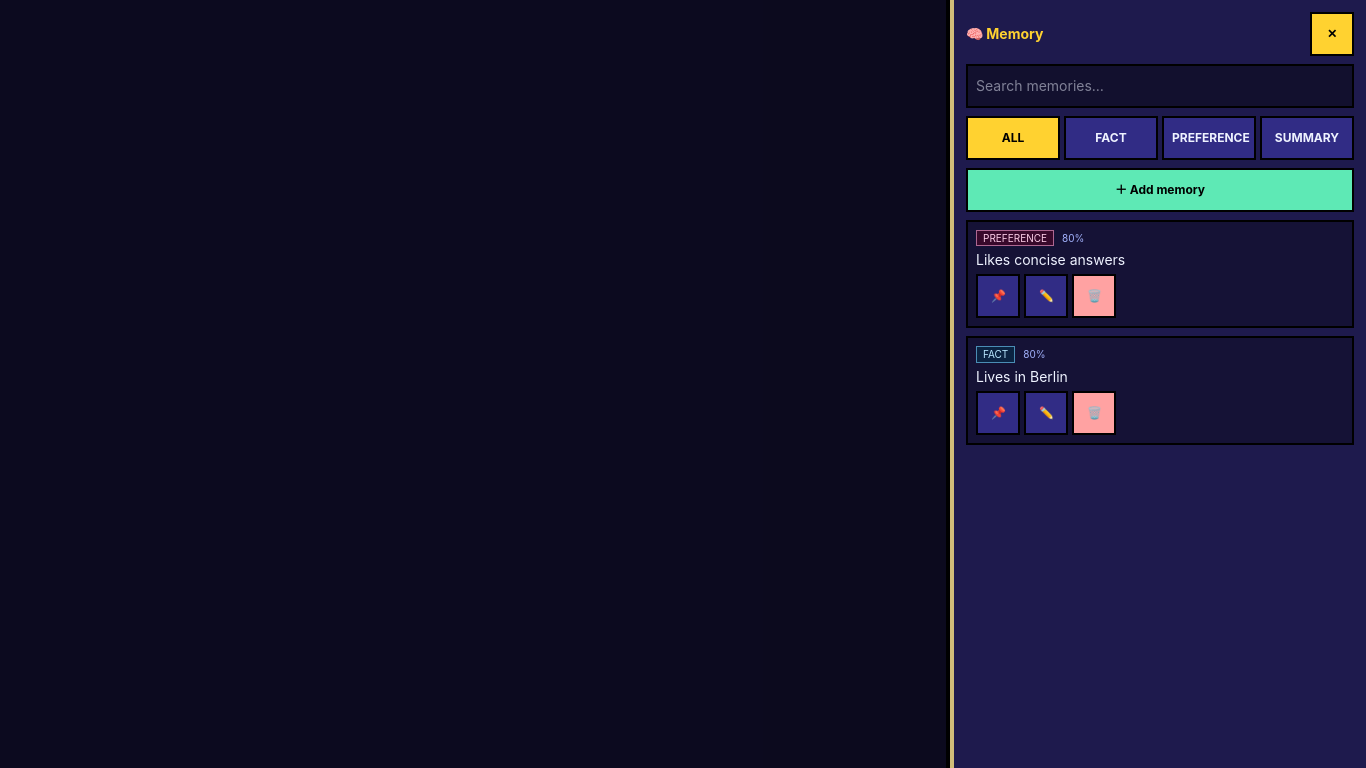
Test case: MemoryPanel › inline edit saves new content
This screenshot has width=1366, height=768.
Click the button named "Edit memory text" at (1046, 413), box [1024,391,1068,435]
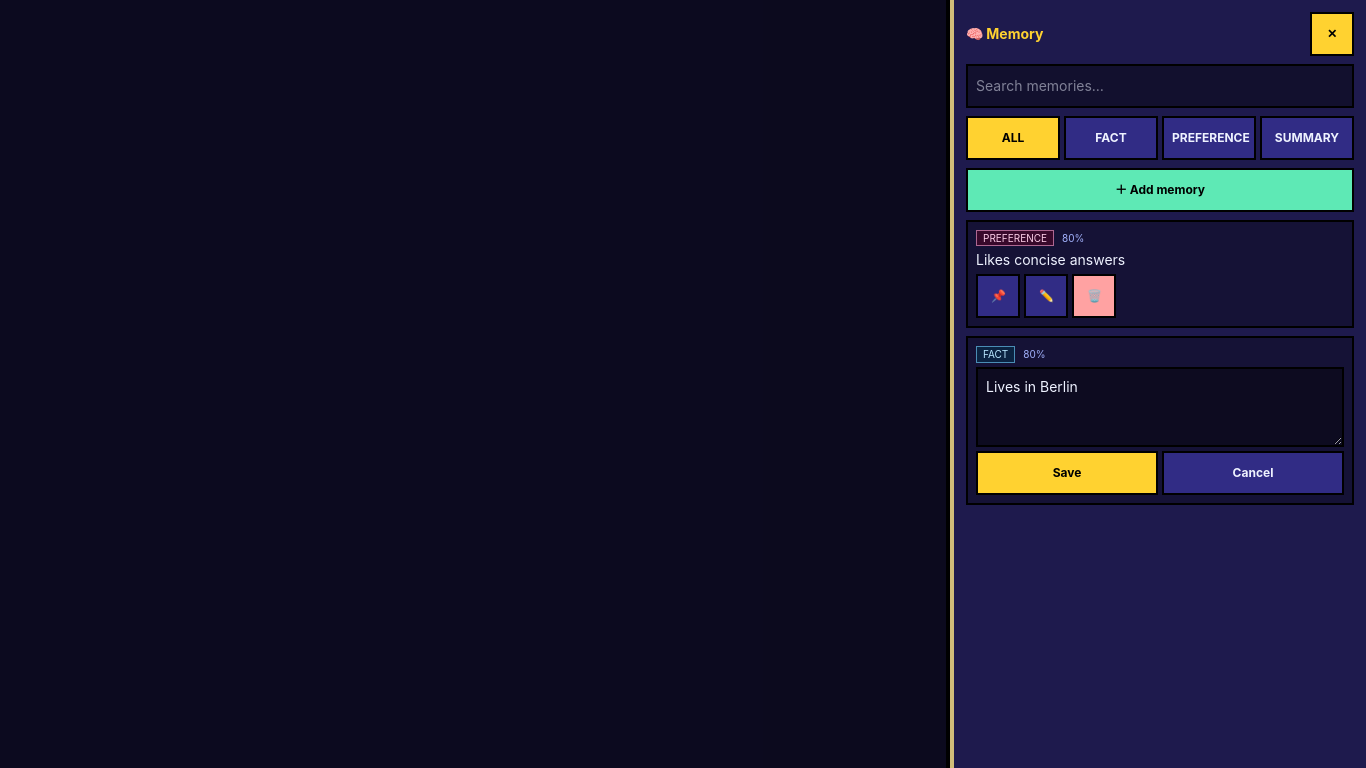
Replace the text in the text box named "Edit memory" with "Lives in Paris" at (1160, 407), box [976,367,1344,447]
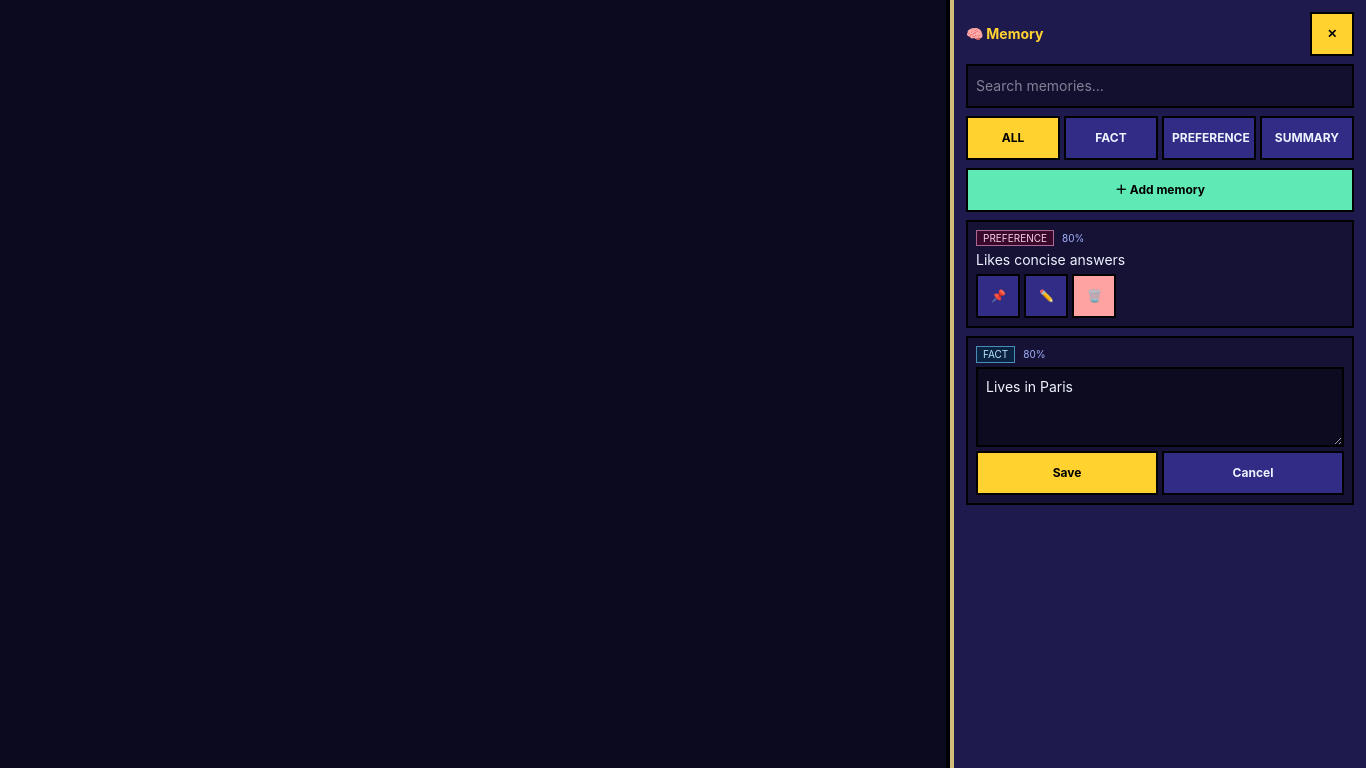
Click the button "Save" at (1067, 473), box [976,451,1158,495]
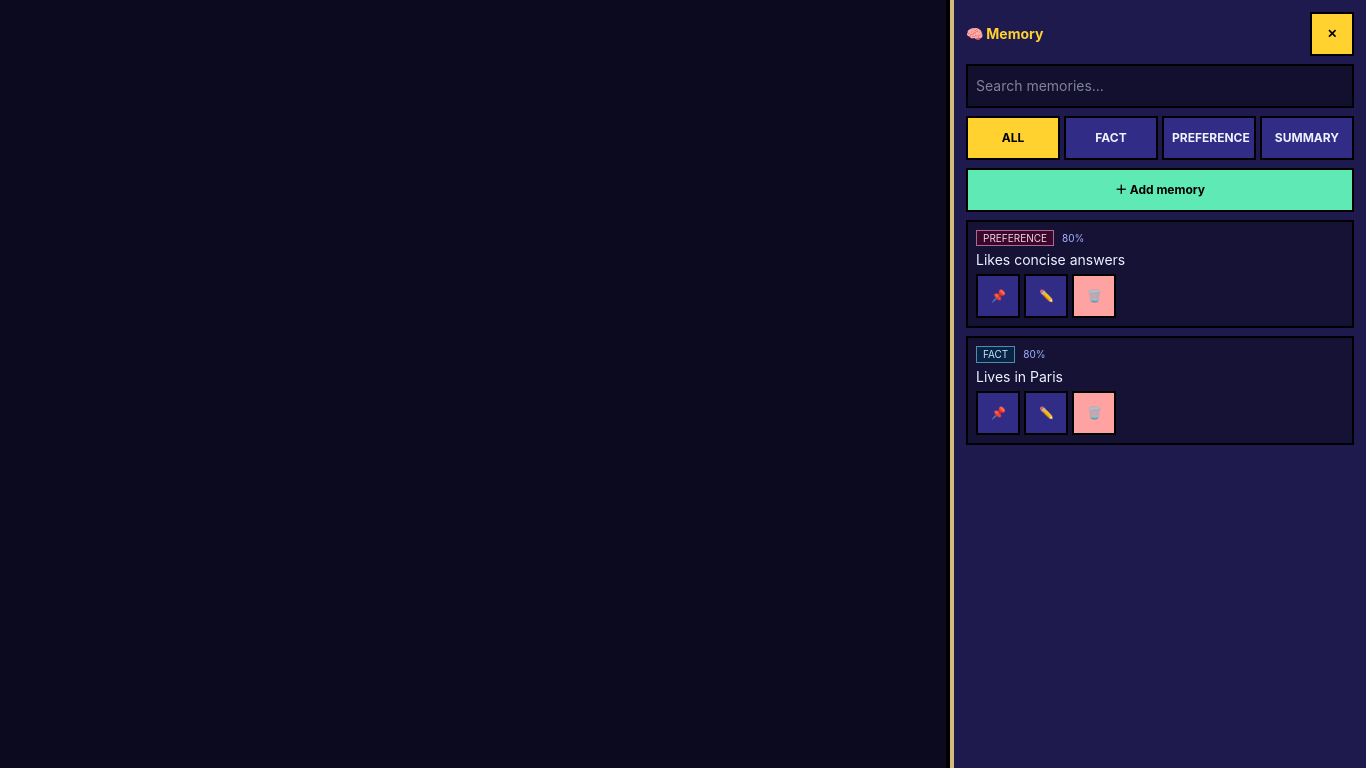
Check: the text "Lives in Paris" is shown, box [976,368,1063,385]
